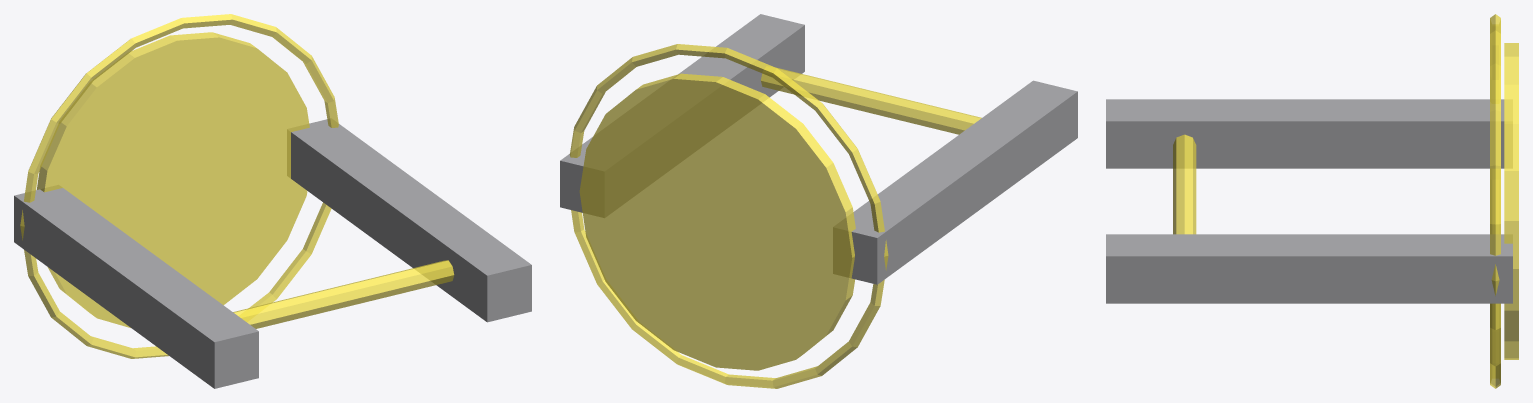
Rendered from 03_checkpoint_gate.glb.
3 renders of one model, left to right at view 1: azimuth 30°, elevation 25°; view 2: azimuth 150°, elevation 25°; view 3: azimuth 270°, elevation 25°, orthographic.
Visible parts, largest first — view 1: base_disc, pillar_l, pillar_r, base_ring, energy_bar; view 2: base_disc, pillar_l, pillar_r, base_ring, energy_bar; view 3: pillar_r, pillar_l, base_disc, base_ring, energy_bar.
Boxes of the visible parts, left/top/right/bottom form: base_disc: left=36, top=32, right=309, bottom=327; pillar_l: left=14, top=185, right=258, bottom=388; pillar_r: left=287, top=119, right=531, bottom=322; base_ring: left=20, top=14, right=338, bottom=358; energy_bar: left=233, top=260, right=454, bottom=328; base_disc: left=579, top=73, right=855, bottom=370; pillar_l: left=833, top=80, right=1077, bottom=284; pillar_r: left=560, top=14, right=804, bottom=217; base_ring: left=569, top=44, right=888, bottom=388; energy_bar: left=760, top=67, right=981, bottom=134; pillar_r: left=1106, top=234, right=1512, bottom=303; pillar_l: left=1106, top=99, right=1512, bottom=168; base_disc: left=1504, top=43, right=1518, bottom=359; base_ring: left=1490, top=14, right=1500, bottom=388; energy_bar: left=1173, top=134, right=1196, bottom=234.
Size of the model in its own units: 1.3 by 1.3 by 1.42.
